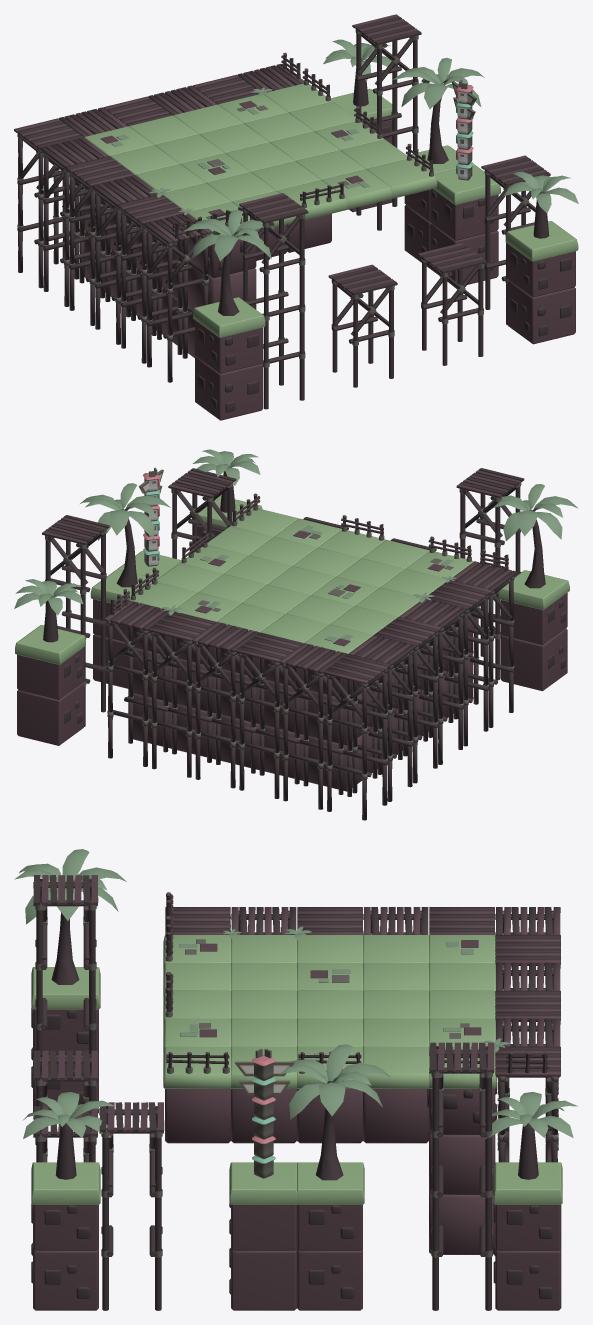
Rendered from StageGroundAssemble_A_GS_A_66.fbx.
3 renders of one model, top to bottom at view 1: azimuth 30°, elevation 25°; view 2: azimuth 150°, elevation 25°; view 3: azimuth 270°, elevation 25°, orthographic. The views are drawn at different scales.
Parts seen in each view (by area): view 1: stage_a_background_deco_gs_003, stage_a_background_deco_gs_004__1_, stage_a_background_deco_gs_005, stage_a_background_deco_gs_002, stage_a_background_deco_gs_003__1_, stage_a_background_deco_gs_002__1_, stage_a_background_deco_gs__1_, stage_a_background_deco_gs, stage_a_background_deco_gs_001, stage_a_background_deco_gs_004, stage_a_block_cover_gs, stage_a_block_base_gs_001 (+53 smaller); view 2: stage_a_background_deco_gs_003, stage_a_background_deco_gs_004, stage_a_background_deco_gs_003__1_, stage_a_background_deco_gs_002__1_, stage_a_background_deco_gs_002, stage_a_background_deco_gs_001, stage_a_background_deco_gs_004__1_, stage_a_background_deco_gs_005, stage_a_block_base_gs_001__49_, stage_a_block_base_gs_002__10_, stage_a_block_base_gs_003__17_, stage_a_block_base_gs_003__19_ (+77 smaller); view 3: stage_a_background_deco_gs_003__1_, stage_a_background_deco_gs_005, stage_a_background_deco_gs_004, stage_a_background_deco_gs_004__1_, stage_a_background_deco_gs_003, stage_a_background_deco_gs_002__1_, stage_a_background_deco_gs_001, stage_a_background_deco_gs_002, stage_a_block_base_gs_001__1_, stage_a_block_base_gs_001__31_, stage_a_block_base_gs_001__40_, stage_a_block_base_gs_001__41_ (+43 smaller).
Boxes of the visible parts, <box> form: stage_a_background_deco_gs_003: <box>183,209,275,420</box>; stage_a_background_deco_gs_004__1_: <box>503,171,578,344</box>; stage_a_background_deco_gs_005: <box>430,79,500,284</box>; stage_a_background_deco_gs_002: <box>239,193,308,409</box>; stage_a_background_deco_gs_003__1_: <box>393,58,484,268</box>; stage_a_background_deco_gs_002__1_: <box>352,14,421,230</box>; stage_a_background_deco_gs__1_: <box>418,242,486,365</box>; stage_a_background_deco_gs: <box>328,264,397,387</box>; stage_a_background_deco_gs_001: <box>481,155,550,324</box>; stage_a_background_deco_gs_004: <box>323,39,398,211</box>; stage_a_block_cover_gs: <box>366,159,437,198</box>; stage_a_block_base_gs_001: <box>188,263,256,310</box>; stage_a_background_deco_gs_003: <box>488,484,578,691</box>; stage_a_background_deco_gs_004: <box>14,579,85,745</box>; stage_a_background_deco_gs_003__1_: <box>80,483,170,688</box>; stage_a_background_deco_gs_002__1_: <box>42,515,109,726</box>; stage_a_background_deco_gs_002: <box>456,468,524,680</box>; stage_a_background_deco_gs_001: <box>168,468,236,558</box>; stage_a_background_deco_gs_004__1_: <box>193,449,262,547</box>; stage_a_background_deco_gs_005: <box>117,467,181,578</box>; stage_a_block_base_gs_001__49_: <box>308,729,371,791</box>; stage_a_block_base_gs_002__10_: <box>326,669,387,728</box>; stage_a_block_base_gs_003__17_: <box>238,728,300,798</box>; stage_a_block_base_gs_003__19_: <box>282,738,343,809</box>; stage_a_background_deco_gs_003__1_: <box>278,1044,390,1310</box>; stage_a_background_deco_gs_005: <box>229,1048,296,1310</box>; stage_a_background_deco_gs_004: <box>485,1092,577,1310</box>; stage_a_background_deco_gs_004__1_: <box>23,1092,115,1310</box>; stage_a_background_deco_gs_003: <box>14,849,126,1113</box>; stage_a_background_deco_gs_002__1_: <box>429,1042,494,1310</box>; stage_a_background_deco_gs_001: <box>99,1102,164,1310</box>; stage_a_background_deco_gs_002: <box>33,875,98,1088</box>; stage_a_block_base_gs_001__1_: <box>165,1089,230,1143</box>; stage_a_block_base_gs_001__31_: <box>363,1089,428,1143</box>; stage_a_block_base_gs_001__40_: <box>429,1133,495,1194</box>; stage_a_block_base_gs_001__41_: <box>429,1193,495,1254</box>.
Bounding box in the file's own units: 3566 × 1650 × 3422.
2 materials, 2 textured.
